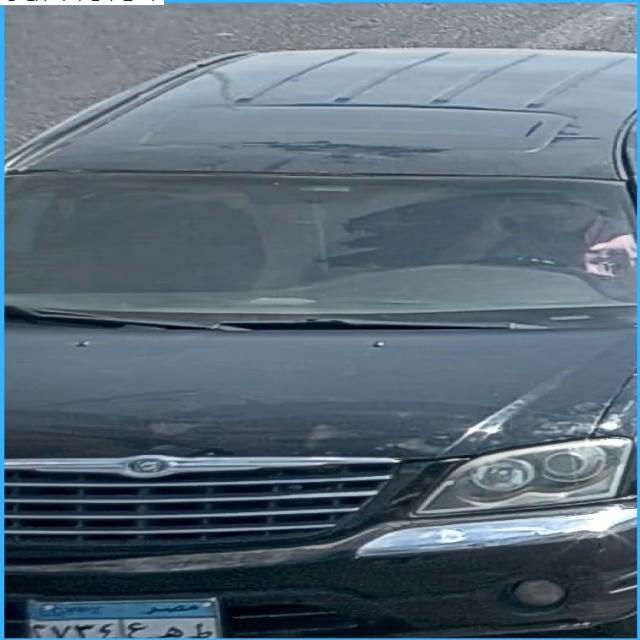windshield: (3, 178, 631, 326)
